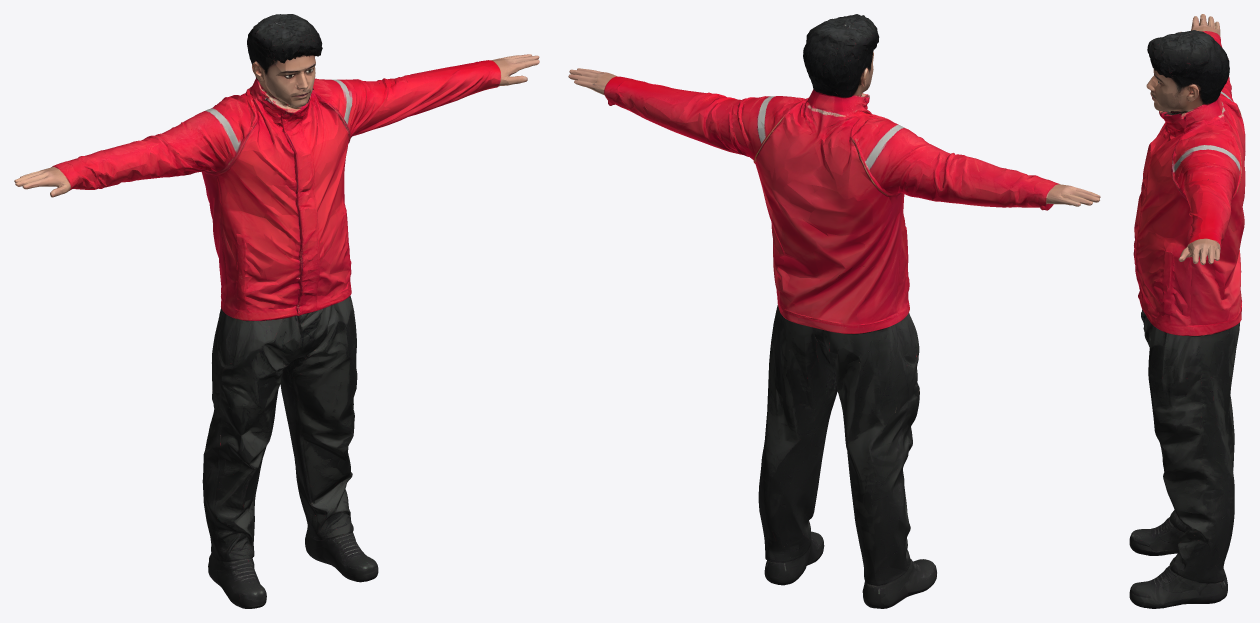
Rendered from ped_rider.glb.
3 views of the same model, side by side, from view 1: azimuth 30°, elevation 25°; view 2: azimuth 150°, elevation 25°; view 3: azimuth 270°, elevation 25° (orthographic). The views are drawn at different scales.
Parts seen in each view (by area): view 1: Mesh_0; view 2: Mesh_0; view 3: Mesh_0.
Boxes of the visible parts, x1,y1,x2,y2 form: Mesh_0: (14, 14, 539, 608); Mesh_0: (568, 14, 1100, 608); Mesh_0: (1129, 14, 1245, 608).
Bounding box in the file's own units: 1.86 × 1.89 × 0.3674.
1 material, 1 textured.
